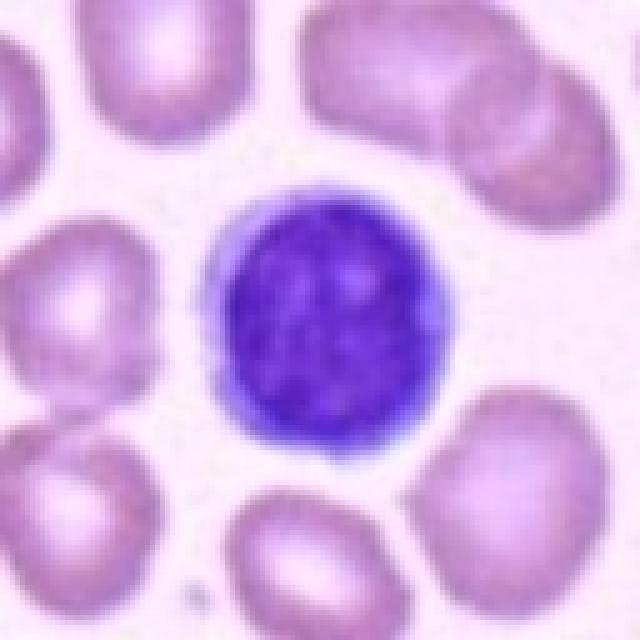lympho: (187, 174, 463, 461)
